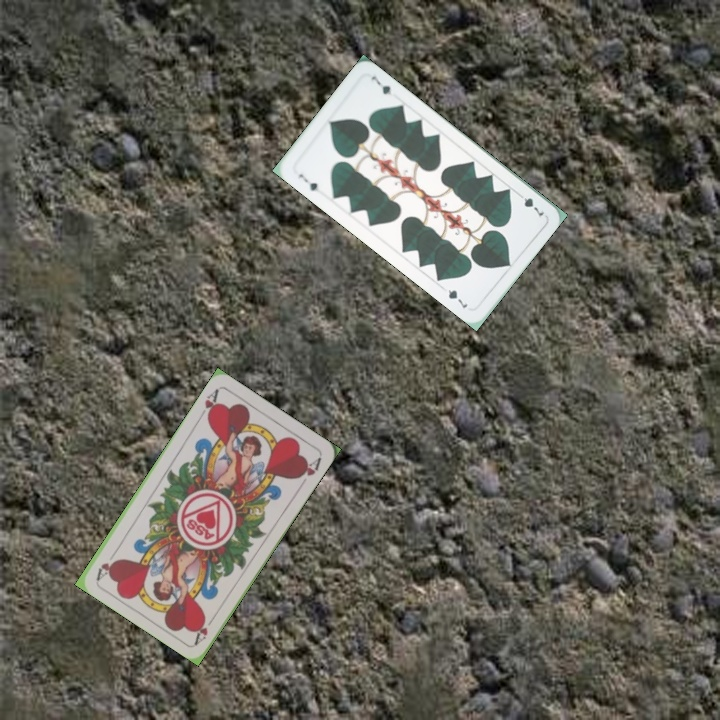G7: (513, 188, 547, 221), (295, 169, 320, 194)
HA: (191, 610, 219, 647), (195, 385, 221, 422)
